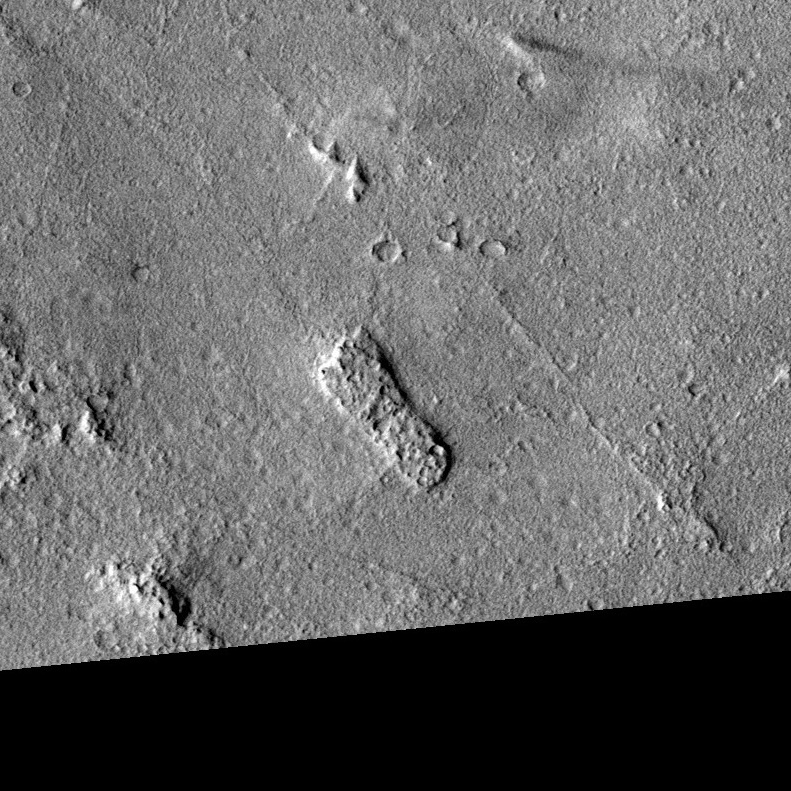dust_devil: (500, 31, 568, 67)
